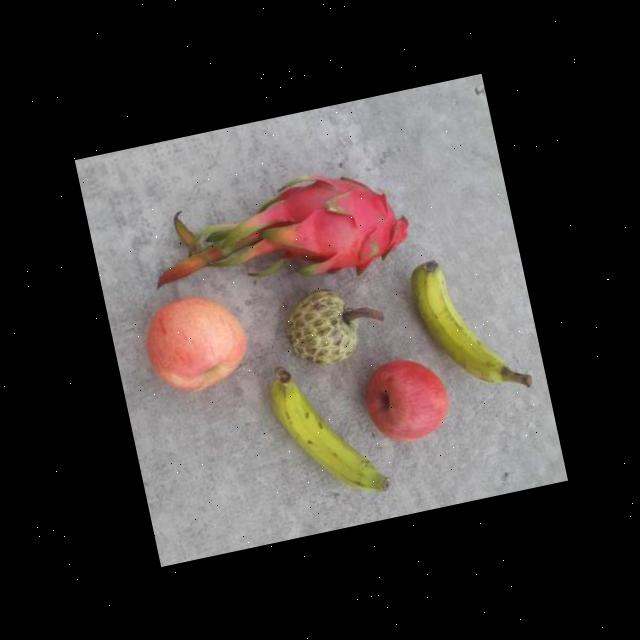Sakya fruit: (277, 278, 391, 374)
apple: (136, 286, 254, 401), (356, 352, 454, 449)
banana: (406, 244, 532, 406), (266, 360, 392, 513)
pitaya: (252, 156, 416, 294)
